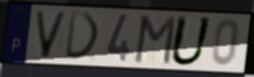0: (209, 18, 241, 69)
4: (105, 12, 132, 65)
D: (64, 10, 102, 62)
M: (132, 15, 178, 67)
U: (167, 14, 214, 68)
V: (33, 9, 70, 60)
